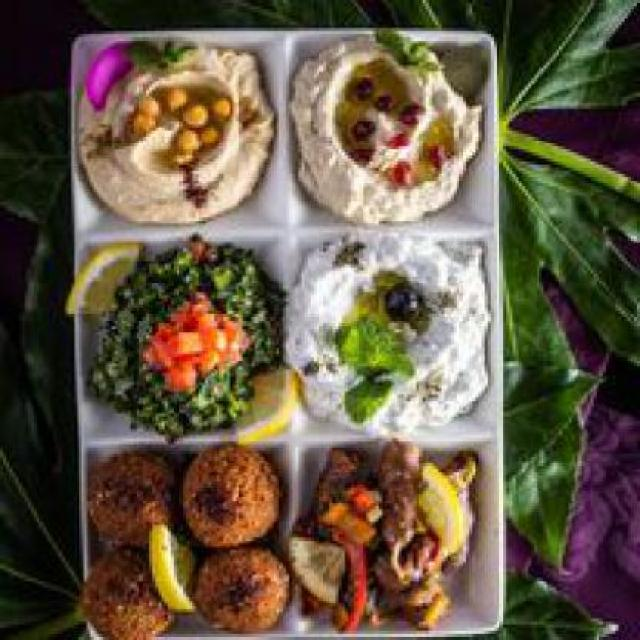eggplant: (295, 442, 488, 624)
falafel: (90, 448, 285, 637)
hummus: (84, 44, 273, 221)
